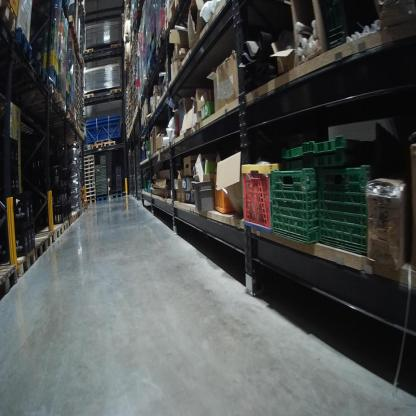pallet: (19, 93, 67, 113), (0, 2, 21, 44), (9, 248, 36, 280), (32, 110, 74, 128), (155, 31, 180, 59), (17, 28, 33, 68), (0, 262, 16, 300), (20, 83, 59, 98), (169, 1, 191, 24), (30, 231, 55, 251), (28, 238, 47, 264), (162, 14, 181, 40), (35, 223, 62, 241), (157, 73, 171, 101), (147, 60, 164, 78), (81, 43, 95, 62), (109, 87, 123, 103), (110, 40, 122, 58), (62, 133, 85, 142), (83, 92, 96, 104), (58, 221, 68, 236), (68, 17, 77, 32), (67, 213, 78, 225), (77, 5, 88, 17), (96, 194, 108, 203), (110, 192, 122, 201), (144, 117, 151, 131), (94, 139, 117, 143), (104, 142, 117, 149), (83, 166, 96, 173), (91, 142, 103, 149), (82, 154, 94, 161), (82, 159, 96, 165), (82, 164, 96, 170), (82, 180, 96, 186), (71, 210, 80, 219), (84, 192, 96, 198), (86, 194, 97, 200), (83, 171, 96, 176), (66, 217, 73, 226), (82, 186, 96, 190), (85, 189, 96, 194), (73, 120, 79, 129), (83, 176, 95, 180), (77, 127, 81, 136), (85, 200, 96, 203), (81, 208, 85, 213)
